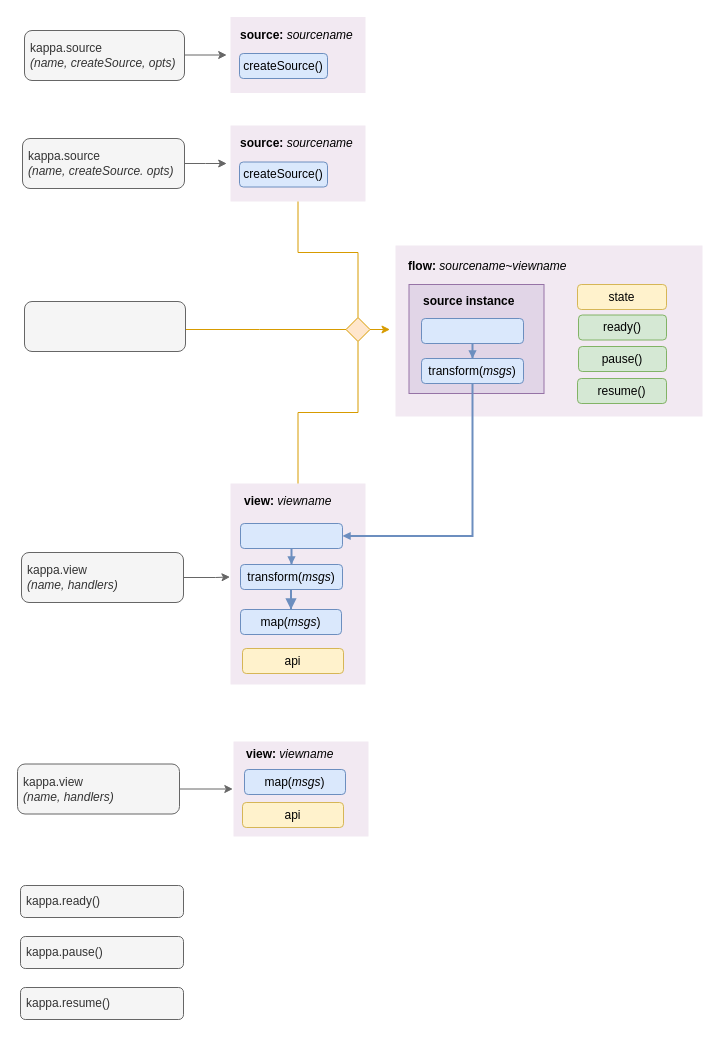
Image size: 720x1037. Some labels were removed from this diagram. Each missing label, with the box of its shape:
filter( msgs ): (240, 522, 342, 548)
kappa.connect (sourcename, viewname): (24, 300, 186, 352)
pull( state ): (420, 318, 524, 344)
